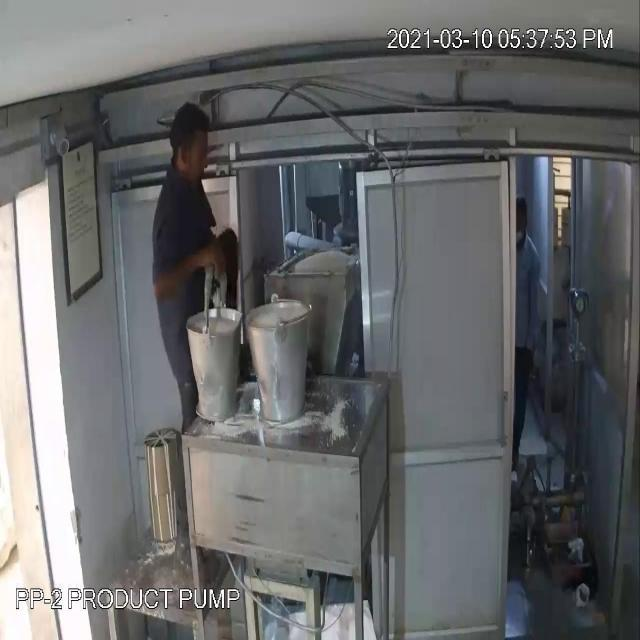No_Gloves: (142, 230, 220, 305)
